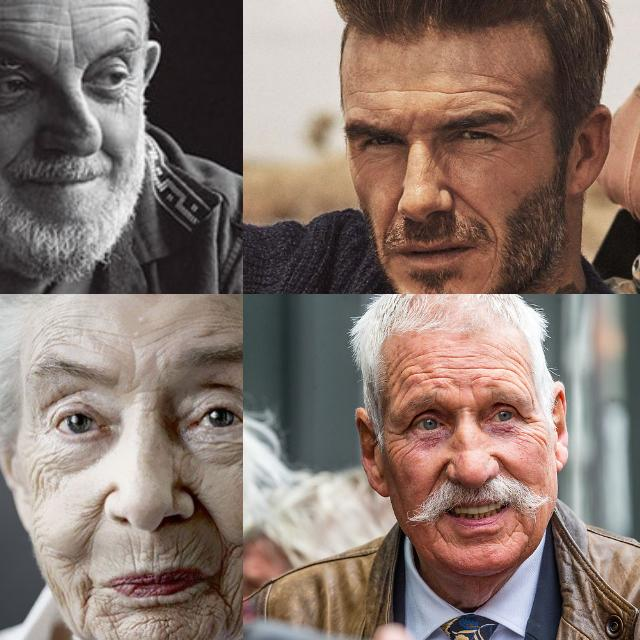bunny_line: (426, 150, 448, 176)
chin: (142, 616, 192, 640), (96, 604, 123, 640), (476, 274, 494, 292)
crows_feet: (24, 406, 50, 444), (518, 411, 544, 443), (388, 428, 410, 460), (500, 129, 522, 149), (349, 153, 366, 173)
forehead: (359, 84, 496, 102), (39, 321, 110, 352), (390, 358, 432, 394), (440, 355, 494, 383), (189, 312, 243, 339), (502, 348, 534, 392), (106, 6, 142, 42), (29, 0, 56, 33), (0, 8, 29, 36), (91, 0, 137, 13)
frown_line: (64, 24, 84, 70), (122, 377, 162, 399), (126, 348, 144, 384), (456, 384, 480, 406), (47, 40, 63, 68)
gummy_smile: (193, 490, 231, 546), (450, 186, 492, 224), (80, 494, 106, 552), (0, 136, 26, 177), (428, 456, 450, 498), (492, 453, 518, 479), (379, 205, 398, 239)
masseter: (23, 461, 59, 511)
sad_smile: (209, 578, 235, 632), (75, 578, 95, 630), (514, 508, 530, 544), (487, 234, 503, 266), (430, 520, 448, 544)
smoker_lines: (109, 534, 201, 566)
